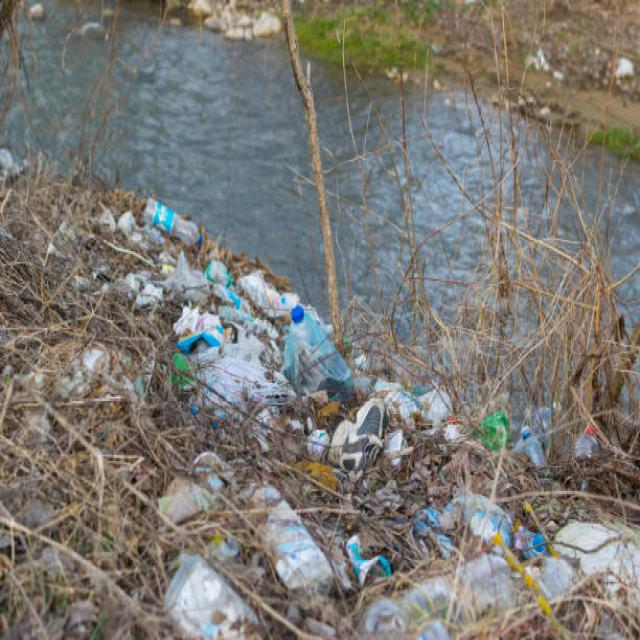plastic: (166, 212, 328, 414)
